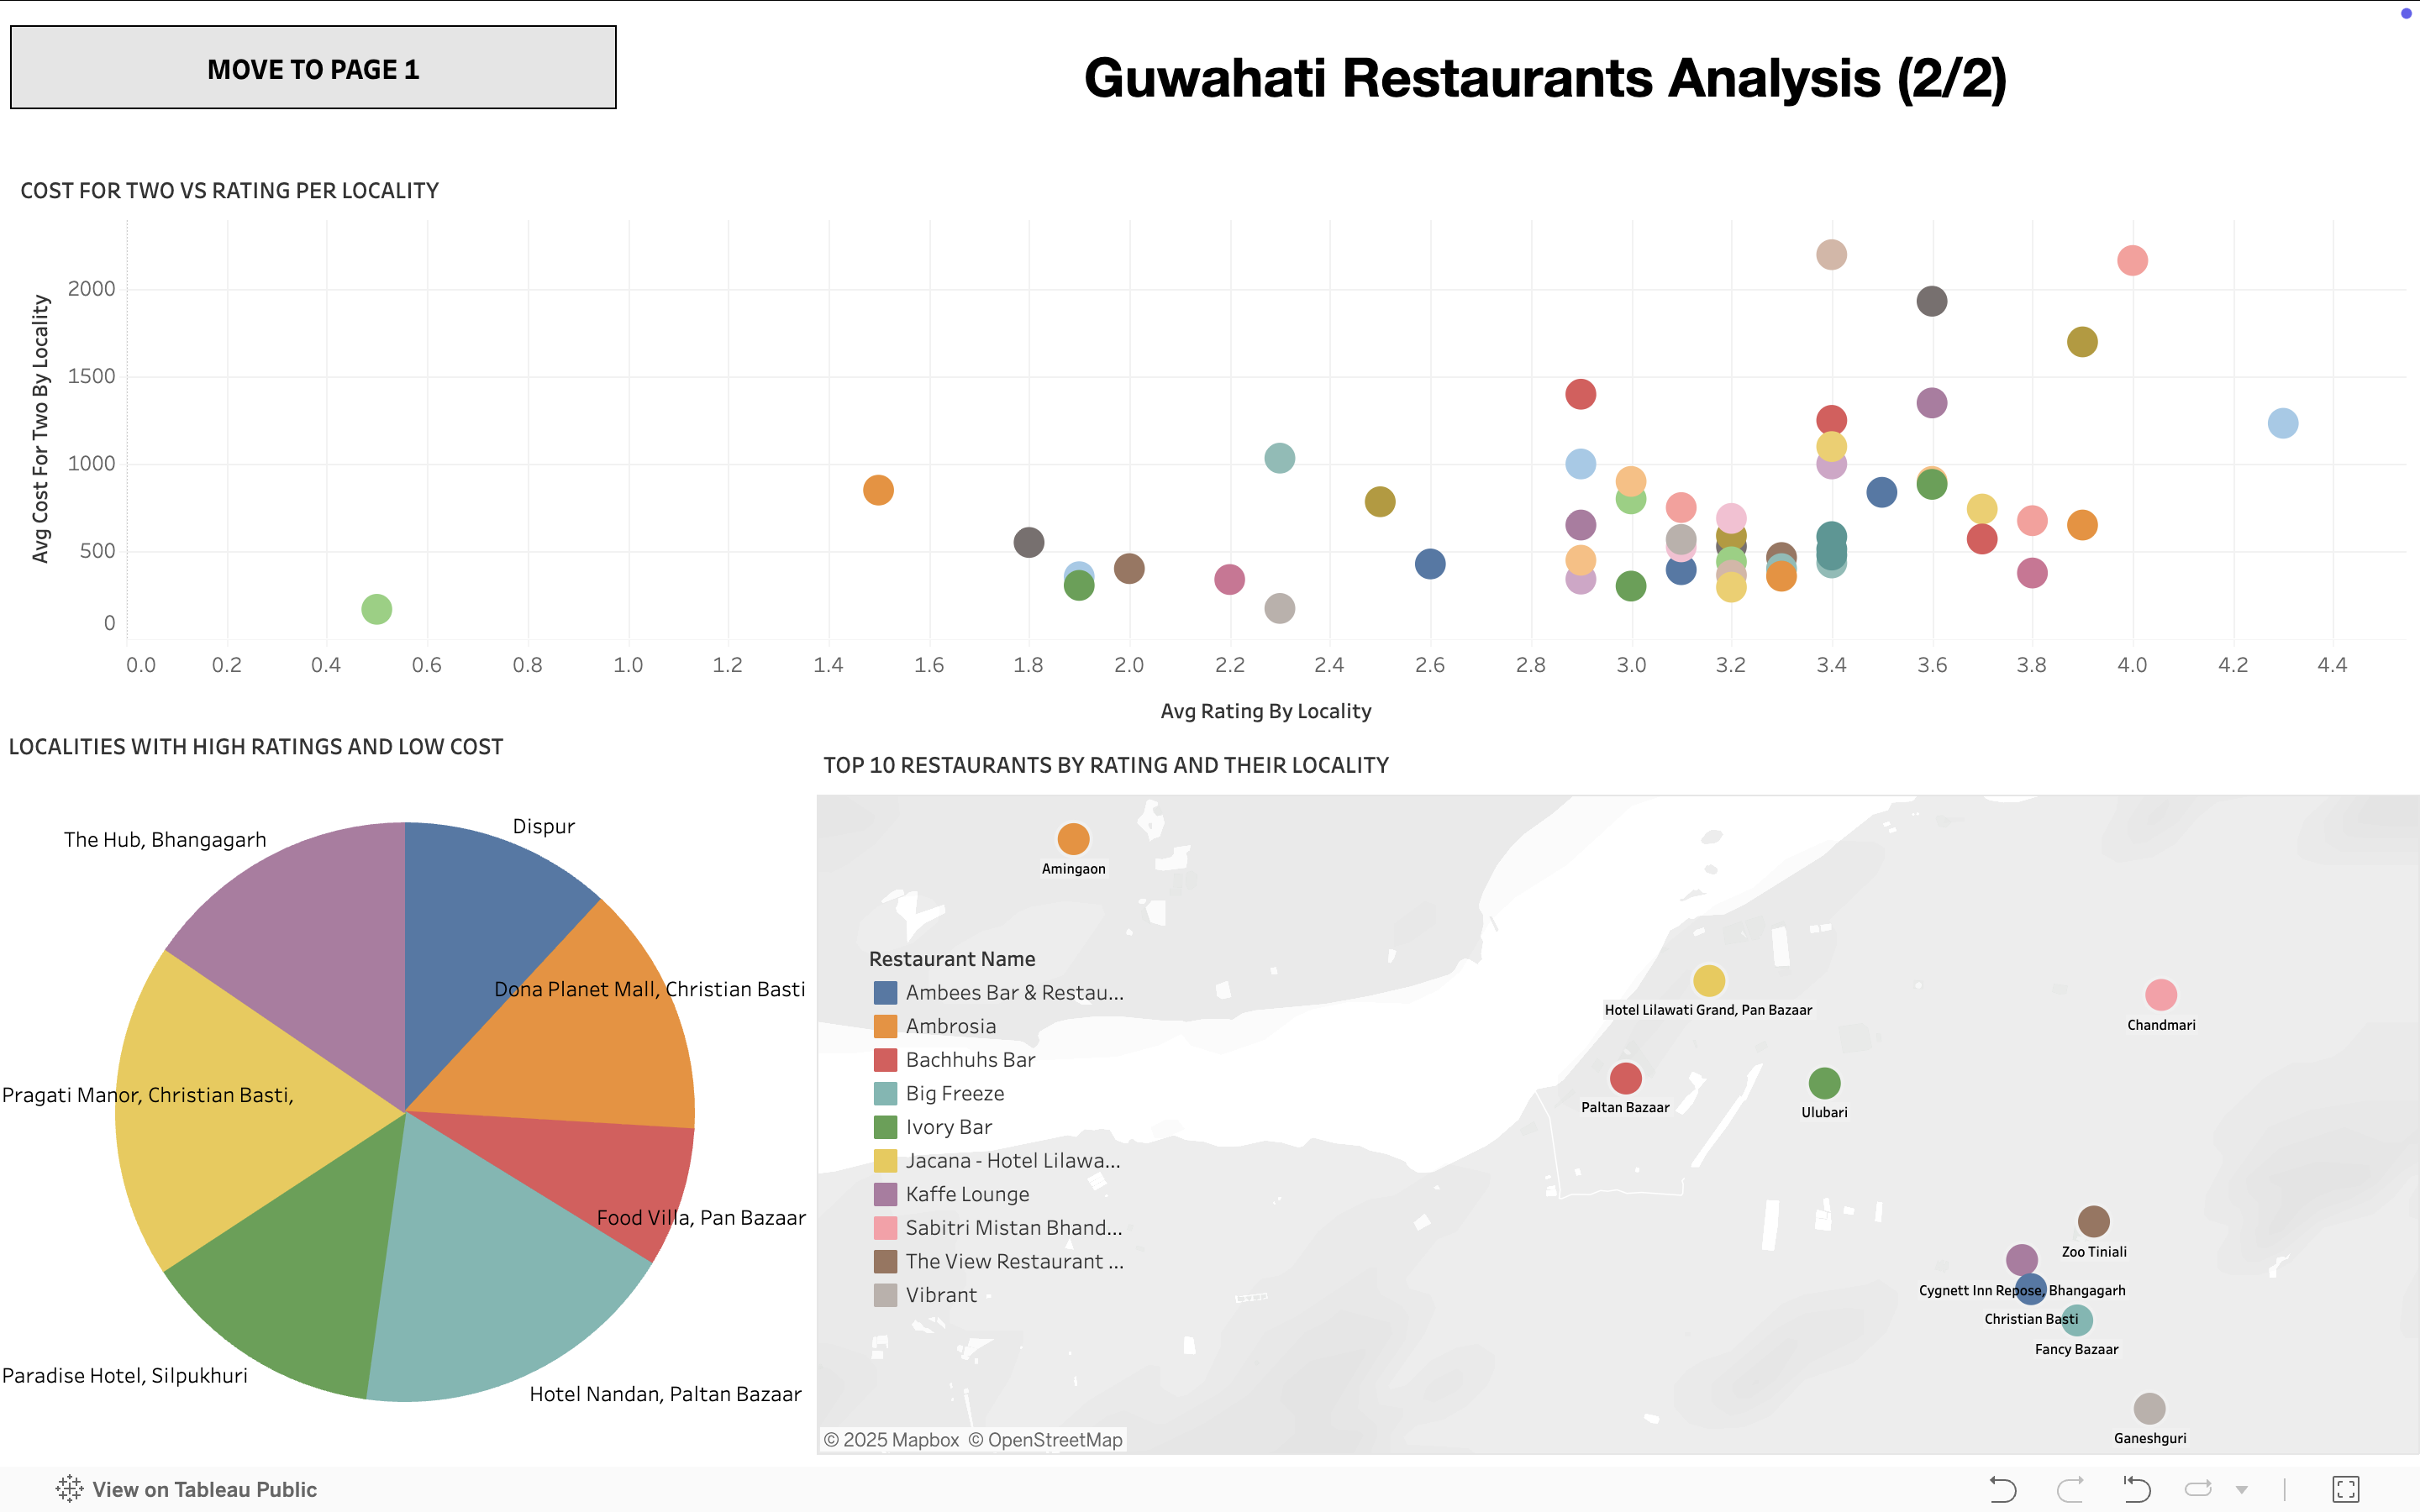

What the dashboard file says about the page in this screenshot:
{"tool":"tableau","page":{"name":"Dashboard 2","canvas":[1000,1000],"units":"permille","ordinal":1},"visuals":[{"type":"text","box":[8.3,14,196.7,39.2]},{"type":"dashboard-object","box":[4.2,63,135.8,30.8]},{"type":"worksheet","title":"Sheet 5","mark":"Circle","rows":["avg_cost_by_locality"],"cols":["avg_rating_by_locality"],"box":[5.8,110.6,988.3,389.4]},{"type":"worksheet","title":"Sheet 6","mark":"Automatic","rows":["avg_rating"],"cols":["avg_cost"],"box":[0.8,490.2,333.3,333.3]},{"type":"worksheet","title":"Sheet 4","mark":"Circle","rows":["latitude"],"cols":["longitude"],"box":[337.5,502.8,552.5,488.8]},{"type":"legend","title":"Sheet 4","param":"[federated.0kkltgs171e6cd1ccrsf302208ya].[none:name:nk]","box":[892.5,563,106.7,310.9]},{"type":"legend","title":"Sheet 6","param":"[federated.1o2e6uo1eh4yid18w3mfn0ye9c2j].[none:locality:nk]","box":[2.5,817.9,317.5,179.3]}]}

Visuals, with their boxes on the dashboard's canvas, which has no fixed pixel size, in thousandths of its width and height (x1, y1, x2, y2). These are canvas units, not pixel positions in the 2420x1512 screenshot, which may show the page scaled, cropped or inside an application window:
text: 8,14,205,53
dashboard-object: 4,63,140,94
"Sheet 5" worksheet (Circle marks): 6,111,994,500
"Sheet 6" worksheet: 1,490,334,824
"Sheet 4" worksheet (Circle marks): 338,503,890,992
"Sheet 4" legend: 892,563,999,874
"Sheet 6" legend: 2,818,320,997
